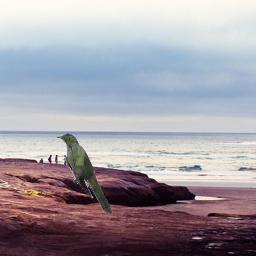Cuckoo: (57, 133, 115, 215)
